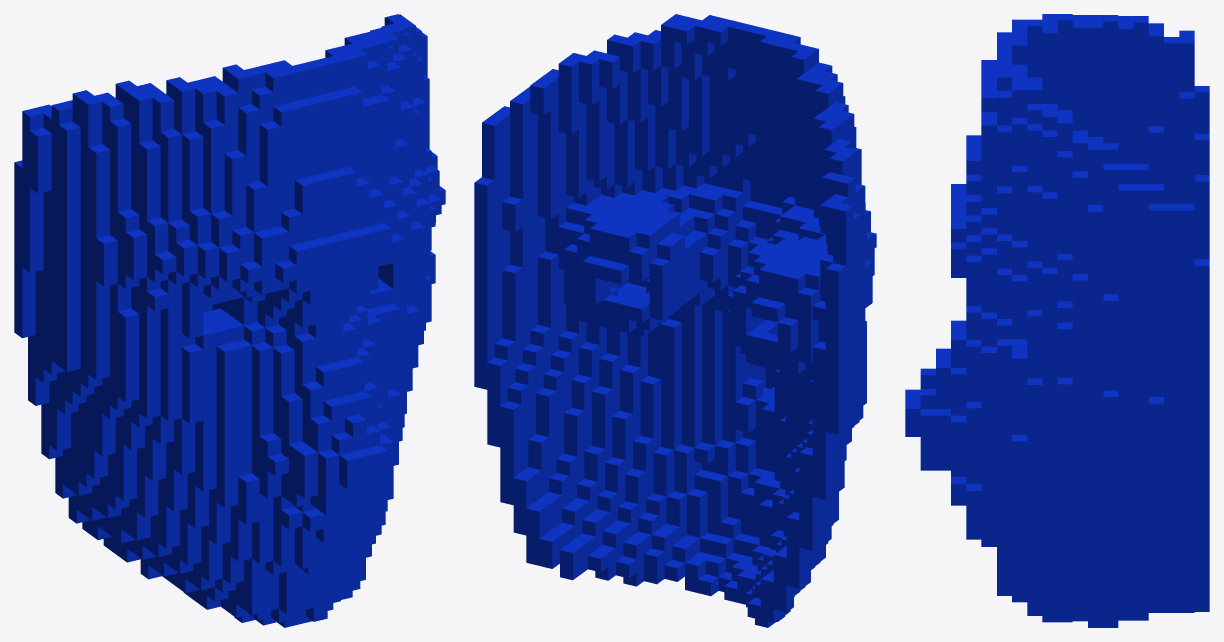
File: asig_procimagenes_01.gltf
The picture shows the model from 3 angles, left to right: view 1: azimuth 30°, elevation 25°; view 2: azimuth 150°, elevation 25°; view 3: azimuth 270°, elevation 25°; orthographic projection. The views are drawn at different scales.
Visible parts, largest first — view 1: cara-0-Cara de Helios; view 2: cara-0-Cara de Helios; view 3: cara-0-Cara de Helios.
Boxes of the visible parts, left/top/right/bottom form: cara-0-Cara de Helios: left=14, top=14, right=445, bottom=627; cara-0-Cara de Helios: left=474, top=14, right=876, bottom=627; cara-0-Cara de Helios: left=905, top=14, right=1209, bottom=627.
Bounding box in the file's own units: 2.8 × 4 × 2.
